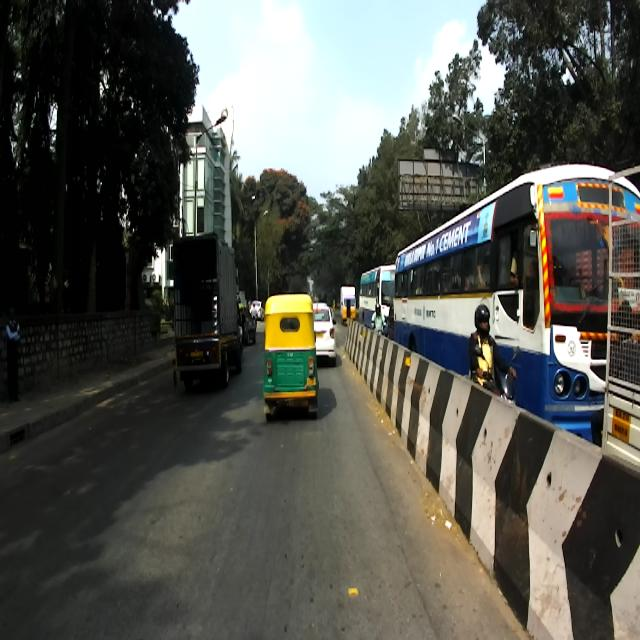auto ahead at: (262, 292, 321, 416)
truck ahead at: (168, 232, 244, 391)
